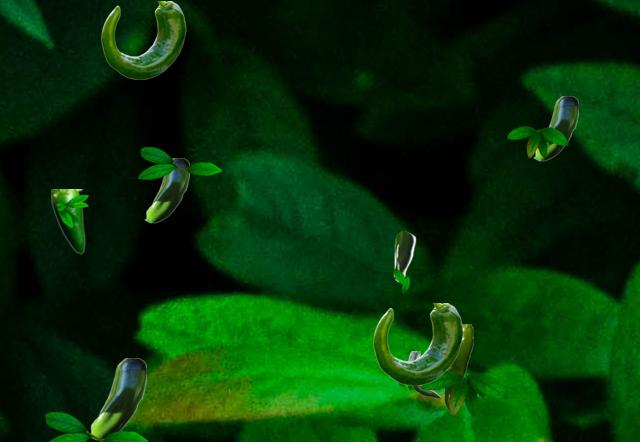green_chili: (373, 303, 462, 384), (101, 1, 185, 78), (90, 358, 145, 439), (533, 96, 577, 160), (144, 158, 188, 222), (444, 324, 472, 410), (51, 189, 84, 253), (408, 351, 440, 397), (392, 230, 415, 281)
